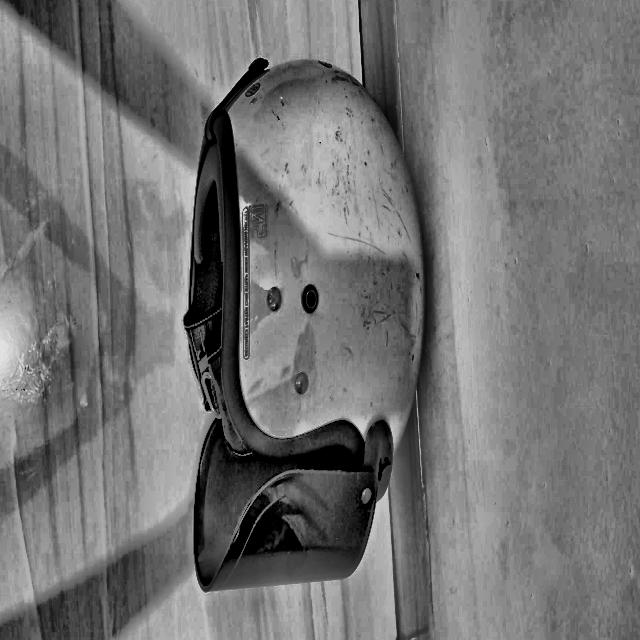Helmet: (321, 430, 640, 640)
